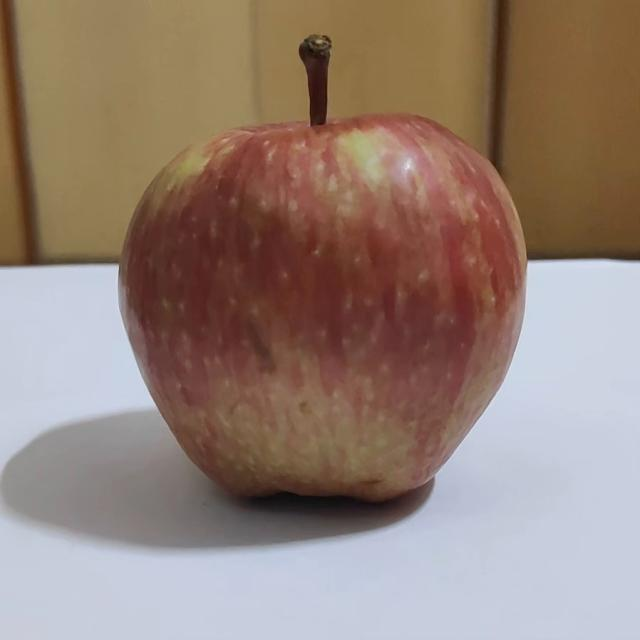Wet: (118, 32, 539, 506)
